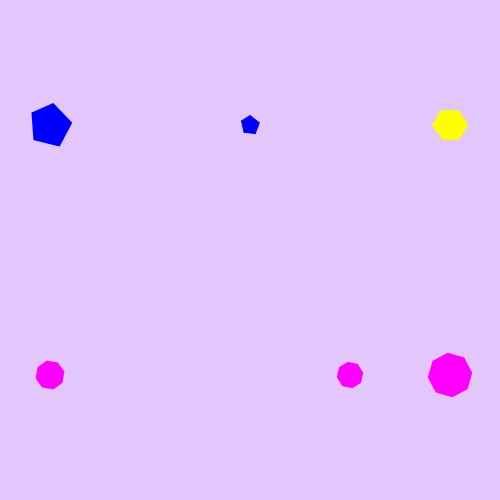hexagon: (428, 107, 472, 144)
octagon: (424, 349, 476, 401), (31, 356, 69, 394), (333, 358, 368, 393)
pentagon: (26, 101, 75, 150), (236, 111, 264, 139)
